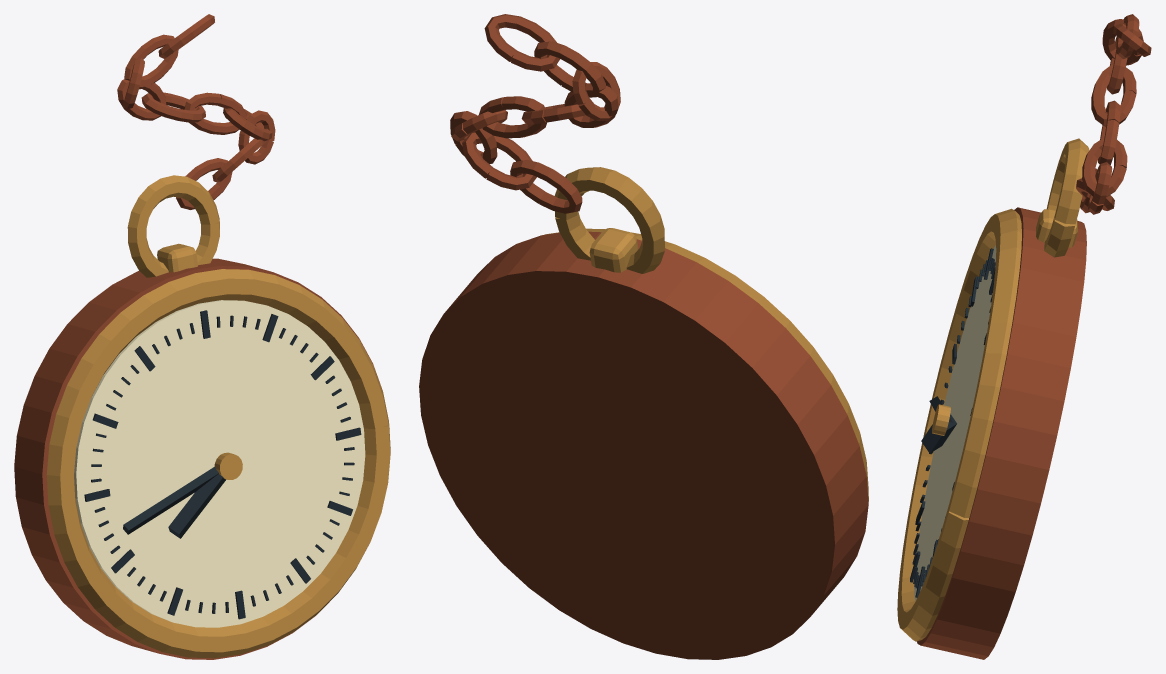
The picture shows the model from 3 angles, left to right: view 1: azimuth 30°, elevation 25°; view 2: azimuth 150°, elevation 25°; view 3: azimuth 270°, elevation 25°; orthographic projection. The views are drawn at different scales.
Visible parts, largest first — view 1: C3-03_pale, C3-03_brass, C3-03_rust, C3-03_ink; view 2: C3-03_rust, C3-03_brass; view 3: C3-03_rust, C3-03_brass, C3-03_pale, C3-03_ink.
Part boxes in pixels (x1,y1,x2,y2): C3-03_pale: (74,300,365,627); C3-03_brass: (46,175,390,658); C3-03_rust: (14,14,382,659); C3-03_ink: (84,310,361,619); C3-03_rust: (419,14,868,659); C3-03_brass: (544,167,868,501); C3-03_rust: (917,14,1151,659); C3-03_brass: (897,138,1089,641); C3-03_pale: (914,245,996,601); C3-03_ink: (910,248,995,597).
Size of the model in its own units: 0.33 by 0.5197 by 0.1866.
